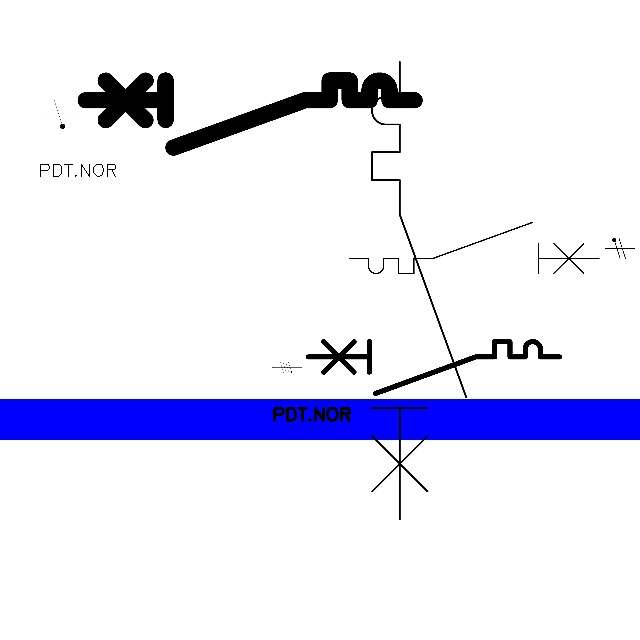interruptor_termomagnetico: (360, 50, 477, 531), (77, 72, 423, 156), (301, 335, 565, 399), (343, 216, 605, 280)
